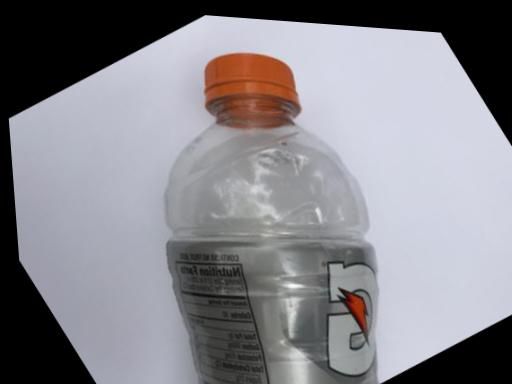plastic: (1, 8, 467, 384)
